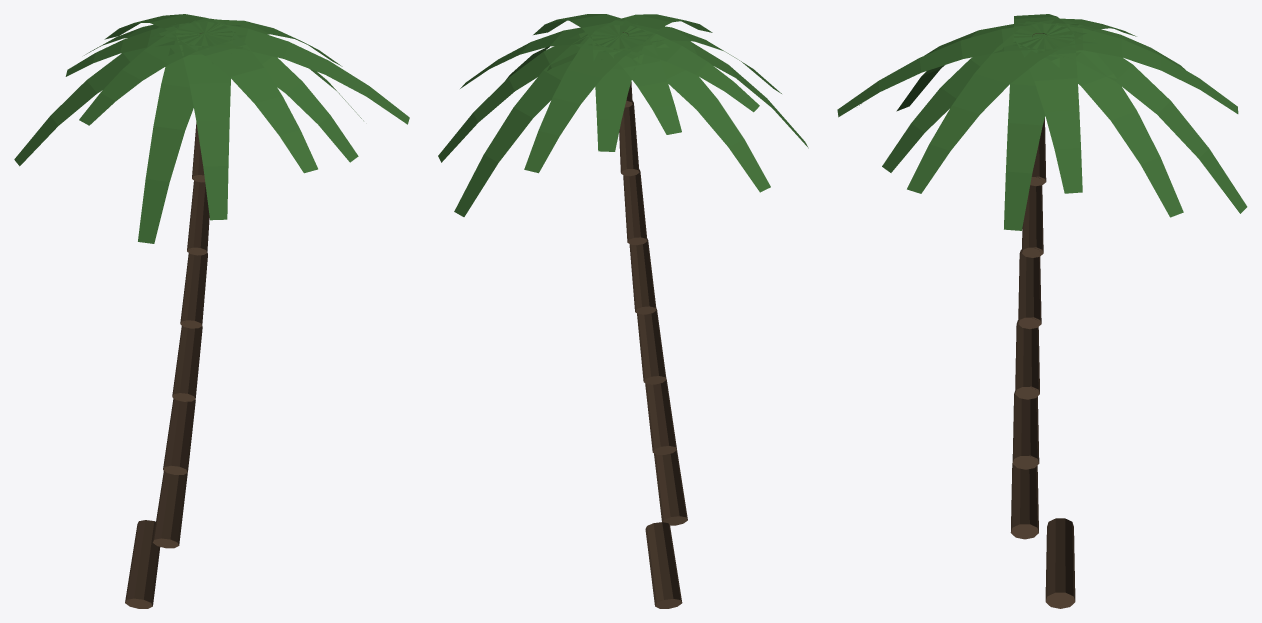
File: tree-palm-2.glb
3 renders of one model, left to right at view 1: azimuth 30°, elevation 25°; view 2: azimuth 150°, elevation 25°; view 3: azimuth 270°, elevation 25°, orthographic. The views are drawn at different scales.
Visible parts, largest first — view 1: tree-palm-2; view 2: tree-palm-2; view 3: tree-palm-2.
Boxes of the visible parts, x1=… form: tree-palm-2: x1=14, y1=14, x2=409, y2=608; tree-palm-2: x1=438, y1=14, x2=808, y2=608; tree-palm-2: x1=837, y1=14, x2=1247, y2=608.
Bounding box in the file's own units: 5.35 × 9.06 × 5.64.
